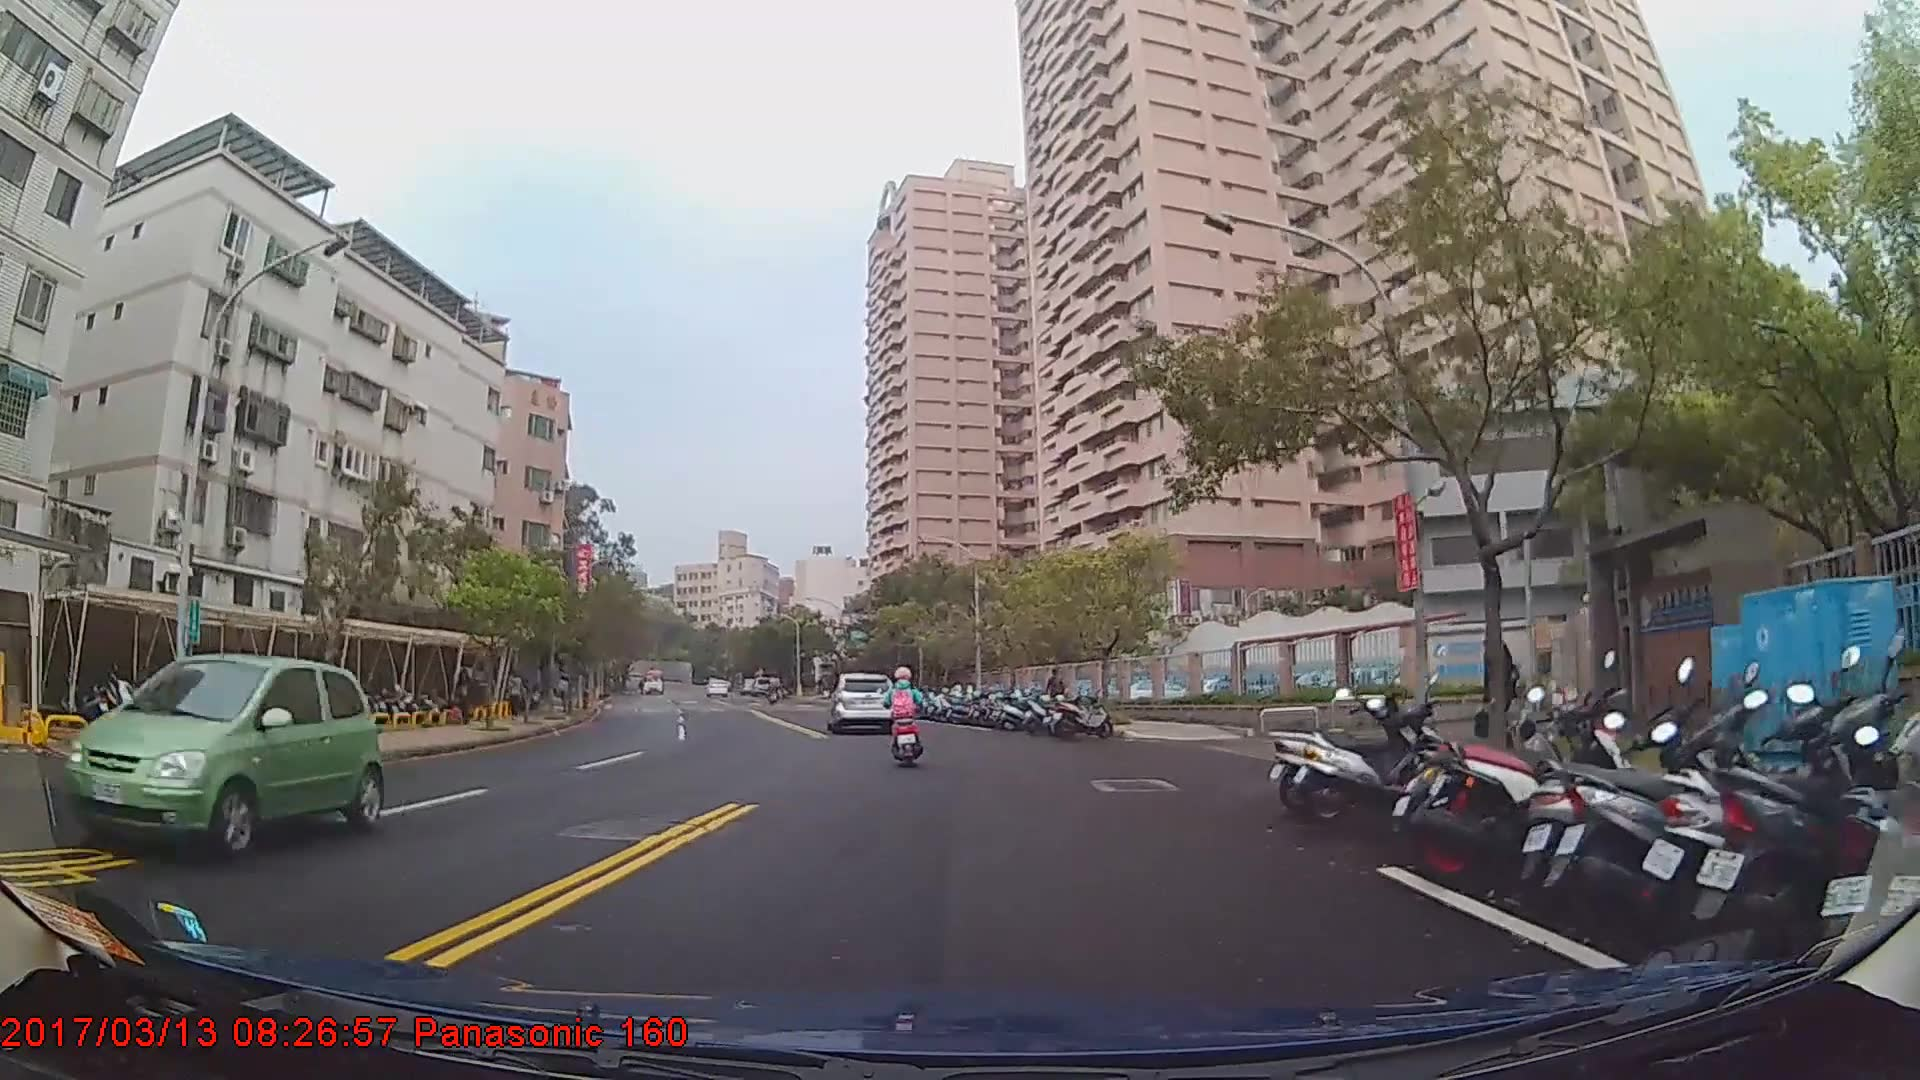pedestrian: (1479, 625, 1518, 768), (1048, 669, 1068, 725)
rider: (882, 669, 925, 766)
vehicle: (62, 651, 382, 862), (825, 673, 896, 738), (640, 666, 664, 693)
